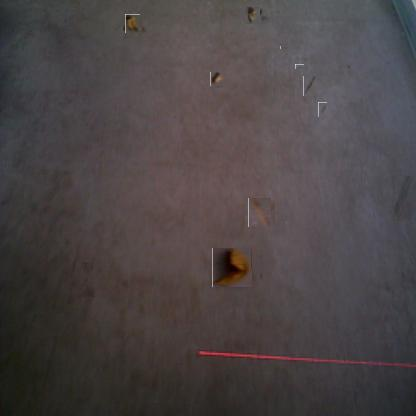dirty: (212, 248, 252, 287), (247, 199, 273, 226), (124, 15, 141, 32), (245, 7, 261, 23), (211, 72, 225, 87)
mark: (394, 176, 416, 222), (303, 76, 316, 96), (80, 262, 92, 274), (82, 288, 94, 300), (318, 102, 327, 117), (258, 271, 264, 282), (296, 63, 303, 70), (282, 44, 288, 51), (302, 10, 308, 16), (346, 62, 350, 70), (384, 61, 390, 66)
